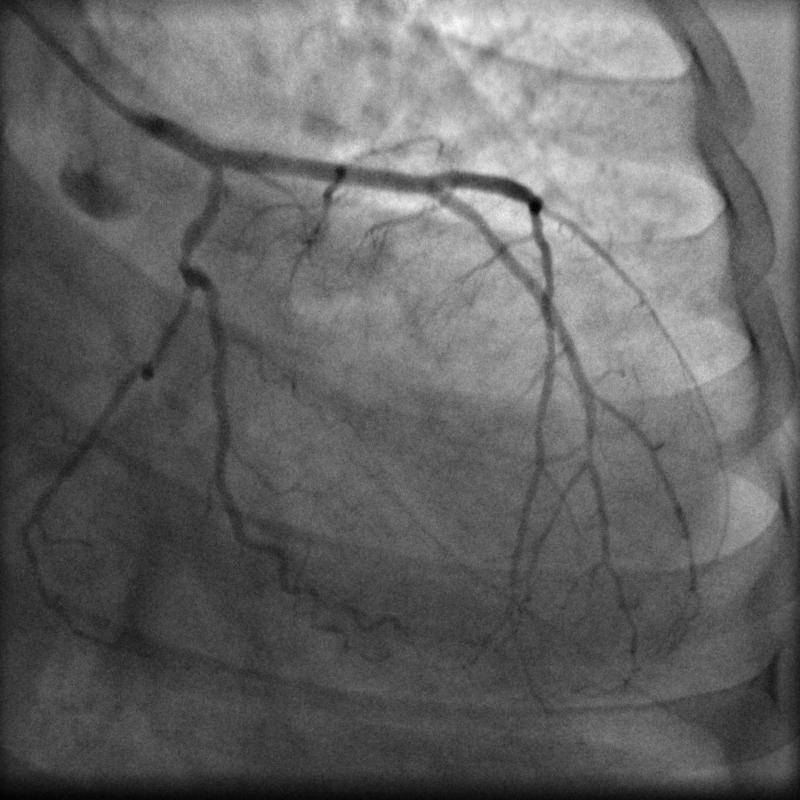Stenosis: (173, 232, 202, 273)
